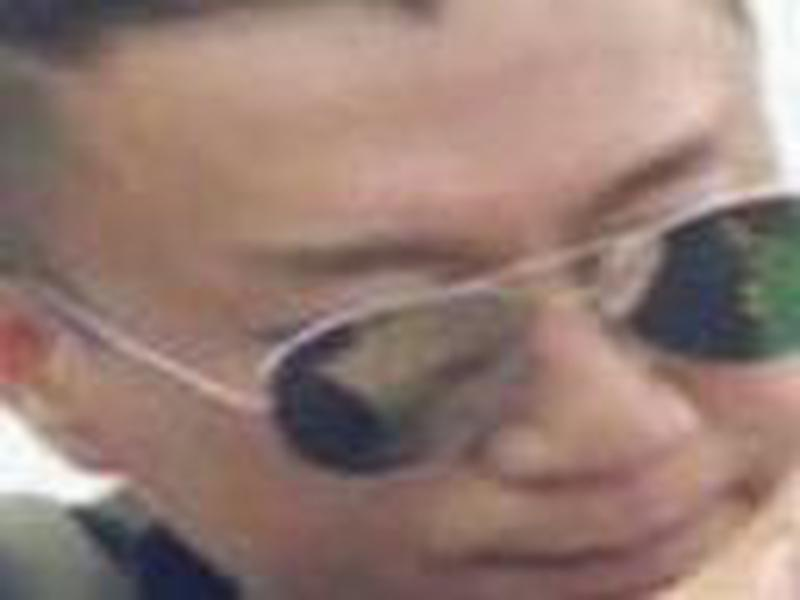without_mask: (38, 27, 795, 600)
